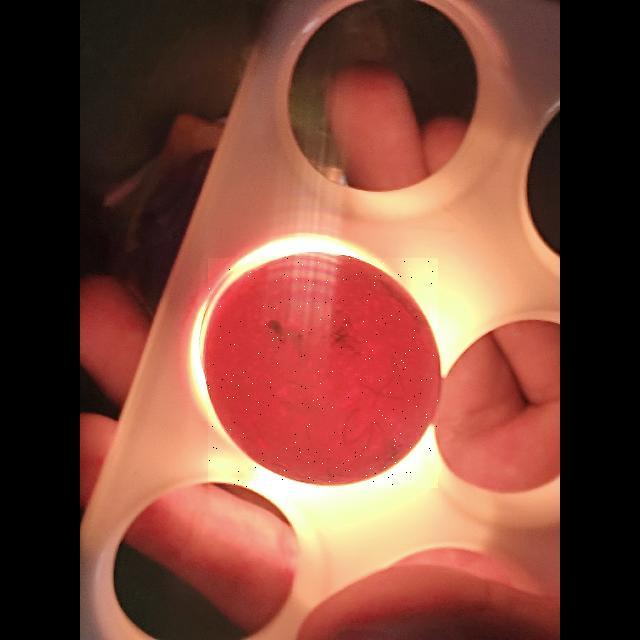Infertile: (208, 258, 438, 488)
